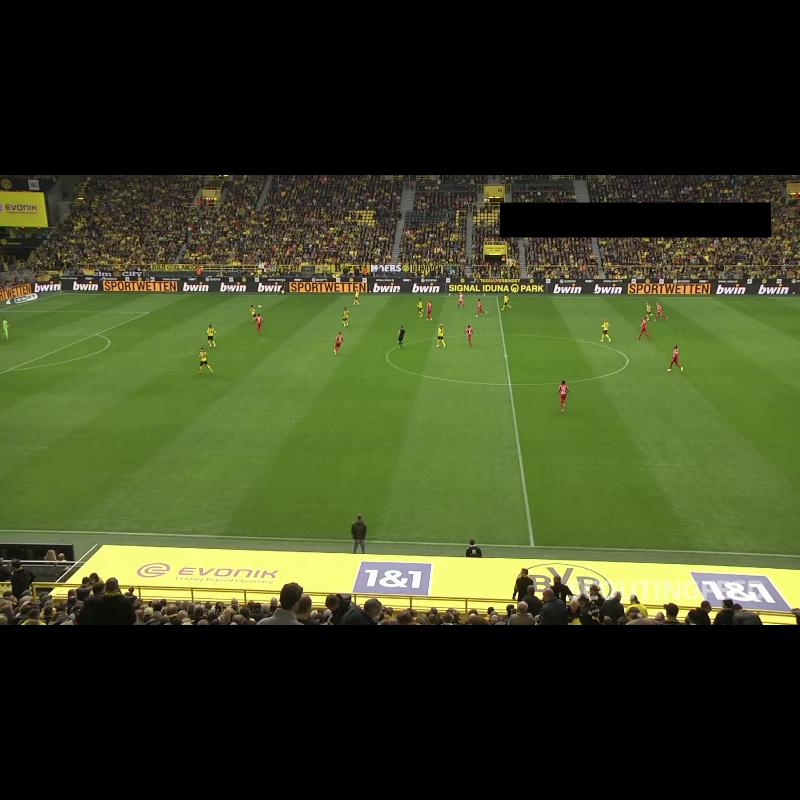cross_recipient_zone: (0, 310, 149, 373)
crossing_player_zone: (0, 293, 265, 312), (746, 297, 800, 320), (0, 424, 24, 446)
pitch: (0, 294, 800, 556)
